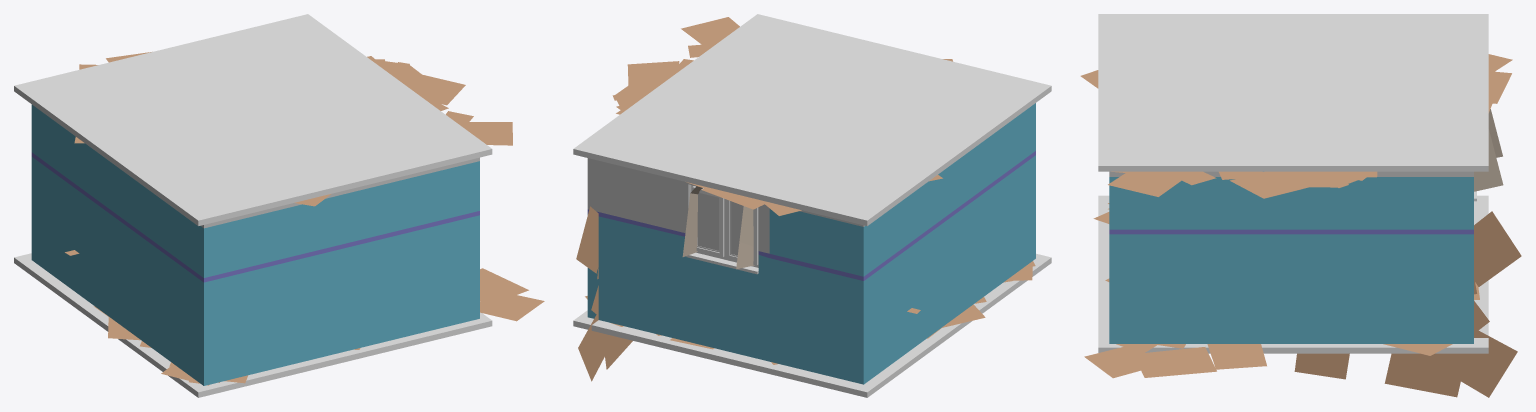
File: FloorPlan401.fbx
3 renders of one model, left to right at view 1: azimuth 30°, elevation 25°; view 2: azimuth 150°, elevation 25°; view 3: azimuth 270°, elevation 25°, orthographic. The views are drawn at different scales.
Parts seen in each view (by area): view 1: Cube.040, Cube.044, Cube.041, Decals.006, Decals.003; view 2: Cube.040, Cube.044, Cube.041, Decals.006, Window, Decals.005, Baseboard.000, Decals.003; view 3: Cube.044, Cube.040, Decals.005, Decals.006, Decals.003, Cube.041, Baseboard.000.
Boxes of the visible parts, left/top/right/bottom form: Cube.040: left=31, top=104, right=479, bottom=385; Cube.044: left=14, top=14, right=492, bottom=225; Cube.041: left=14, top=253, right=492, bottom=397; Decals.006: left=79, top=51, right=512, bottom=206; Decals.003: left=94, top=268, right=544, bottom=385; Cube.040: left=587, top=103, right=1035, bottom=384; Cube.044: left=573, top=14, right=1051, bottom=226; Cube.041: left=573, top=253, right=1051, bottom=397; Decals.006: left=612, top=17, right=952, bottom=215; Window: left=686, top=185, right=758, bottom=274; Decals.005: left=576, top=206, right=632, bottom=381; Baseboard.000: left=682, top=186, right=754, bottom=269; Decals.003: left=585, top=261, right=1035, bottom=364; Cube.044: left=1098, top=14, right=1488, bottom=171; Cube.040: left=1109, top=171, right=1473, bottom=343; Decals.005: left=1294, top=211, right=1521, bottom=397; Decals.006: left=1080, top=54, right=1512, bottom=198; Decals.003: left=1084, top=203, right=1479, bottom=378; Cube.041: left=1098, top=195, right=1488, bottom=353; Baseboard.000: left=1474, top=109, right=1503, bottom=191.
Size of the model in its own units: 573 by 342 by 566.
